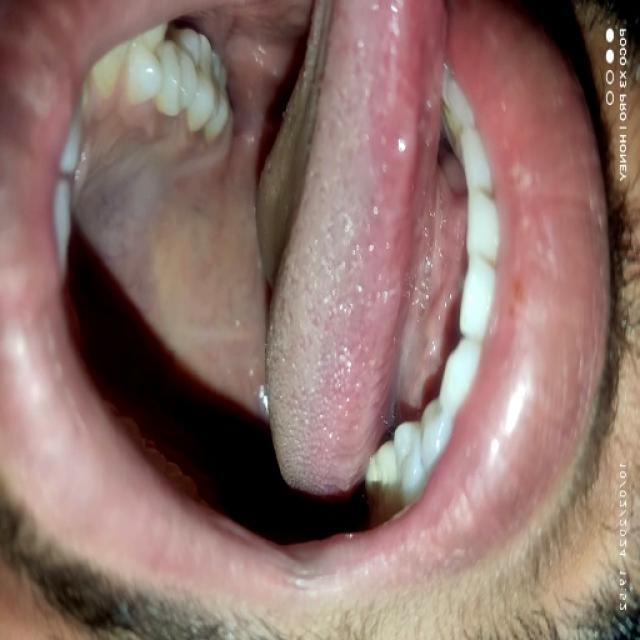processing_area: (78, 5, 461, 493)
